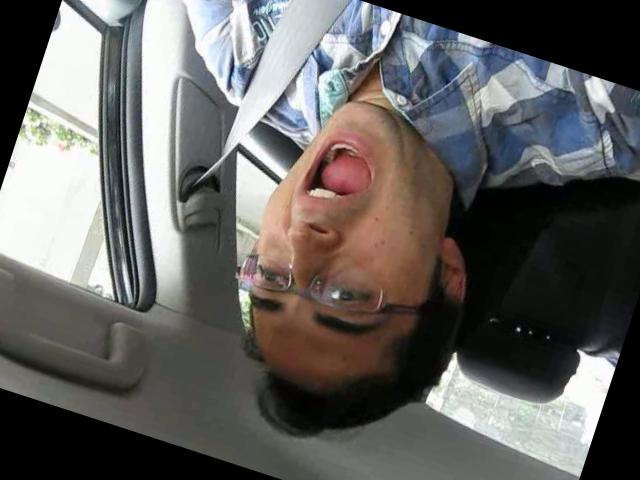eye_open: (322, 274, 376, 315), (252, 260, 296, 295)
face: (224, 78, 466, 368)
mouth_open: (296, 126, 388, 222)
